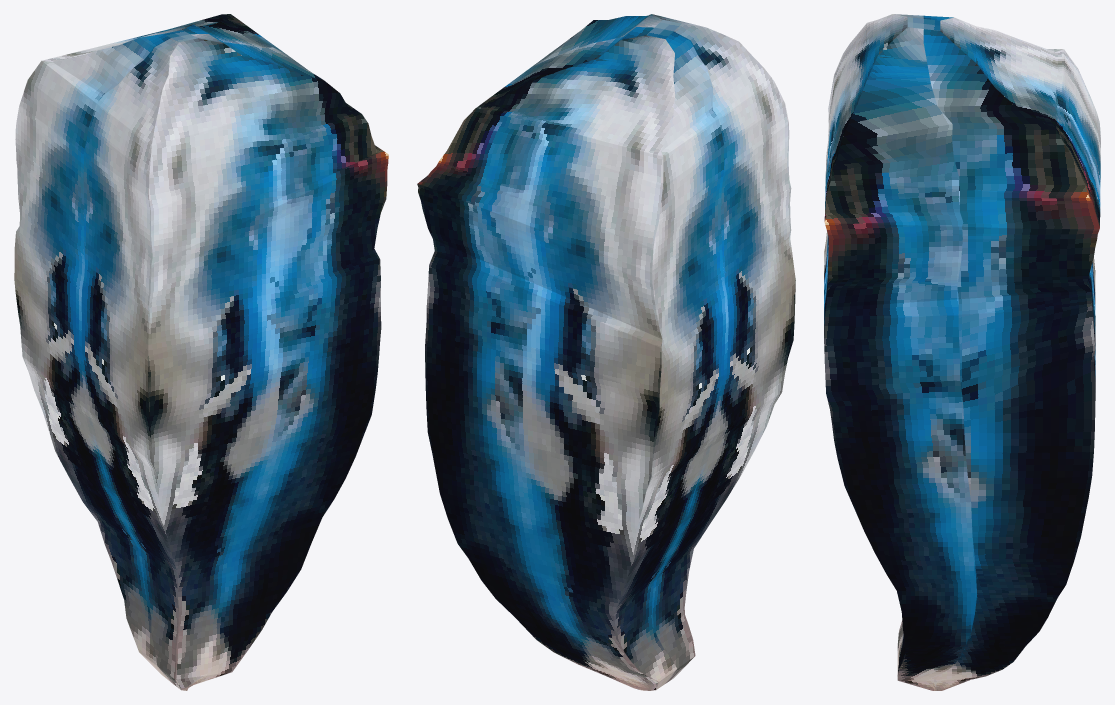
File: metamorphosis_v26_t.glb
3 views of the same model, side by side, from view 1: azimuth 30°, elevation 25°; view 2: azimuth 150°, elevation 25°; view 3: azimuth 270°, elevation 25° (orthographic).
Parts seen in each view (by area): view 1: Cube; view 2: Cube; view 3: Cube.
Boxes of the visible parts, bbox=[...] form: Cube: bbox=[14, 14, 388, 690]; Cube: bbox=[417, 14, 795, 690]; Cube: bbox=[824, 14, 1100, 690].
Size of the model in its own units: 0.7638 by 1.99 by 0.7559.
Materials: 1 (1 with a texture image).
